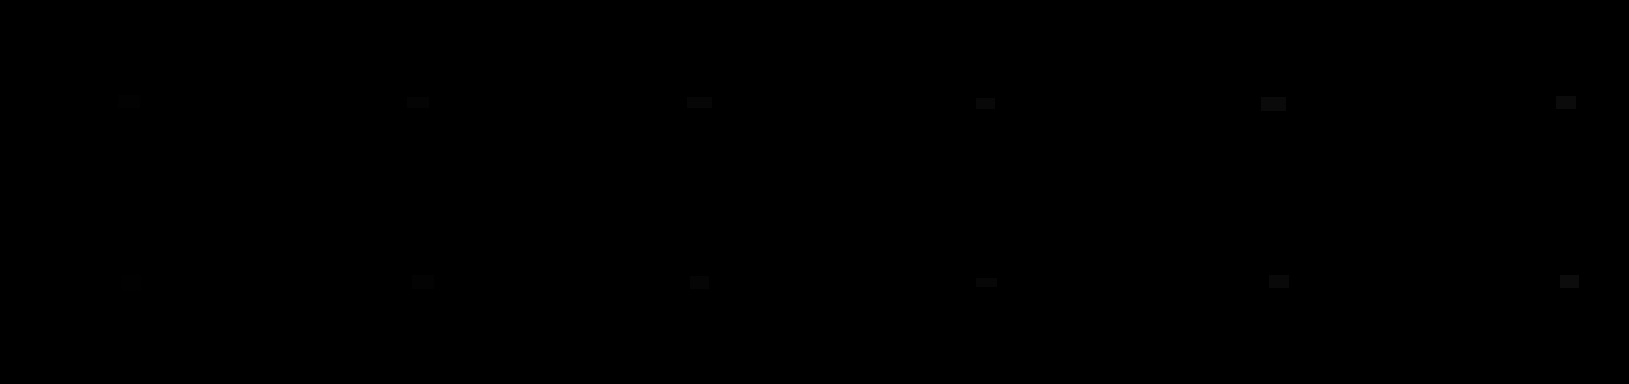light: (1261, 97, 1286, 111), (121, 275, 141, 291), (412, 275, 434, 289), (687, 97, 712, 108), (1269, 275, 1289, 289), (118, 95, 140, 108), (1556, 95, 1576, 109), (1560, 275, 1579, 289), (407, 97, 429, 108), (690, 276, 709, 289), (976, 98, 995, 109), (976, 278, 997, 287)
